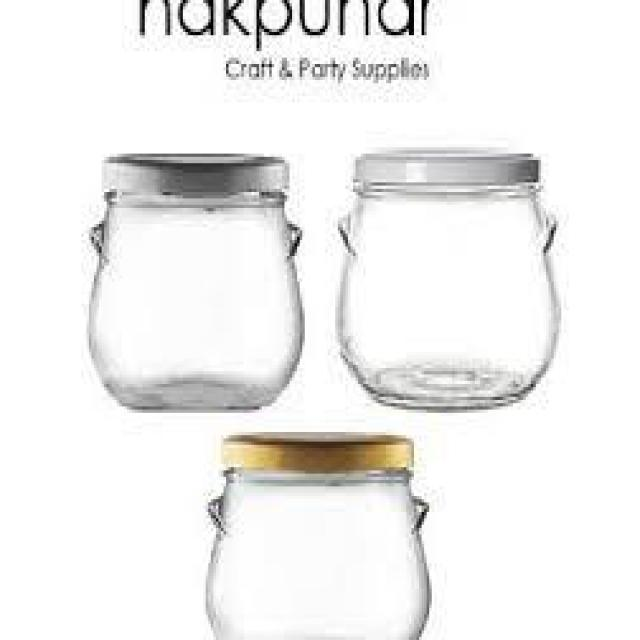non-organic waste: (81, 147, 308, 416), (203, 429, 432, 640)
